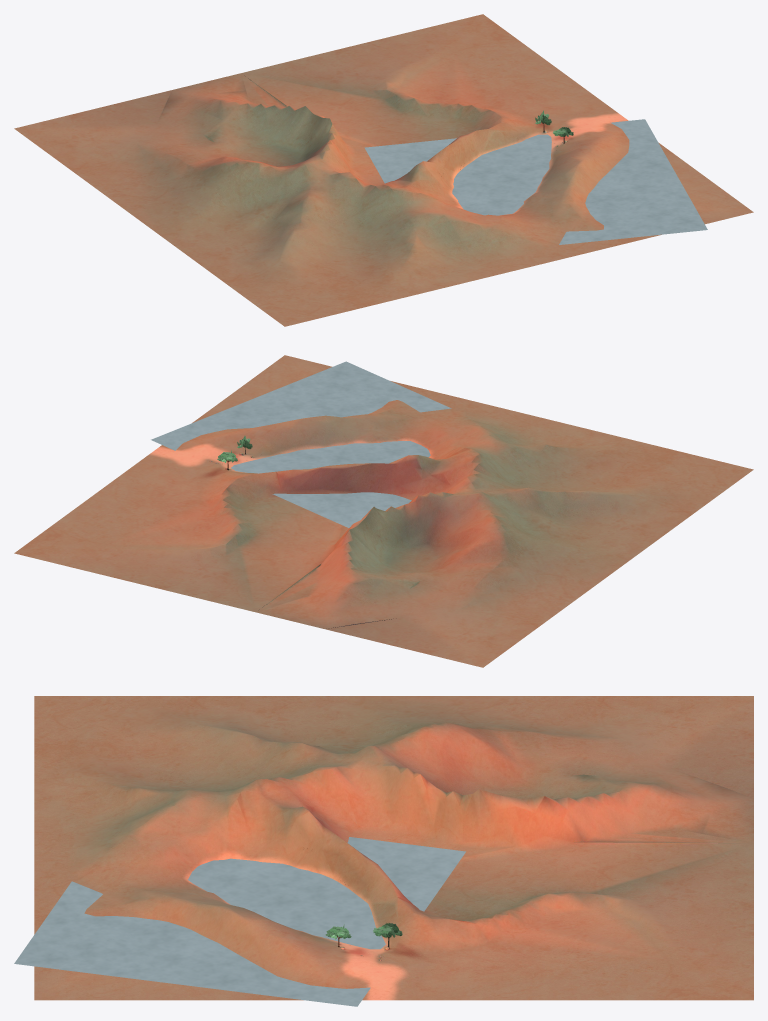
Rendered from chapter2.glb.
3 views of the same model, one above another, from view 1: azimuth 30°, elevation 25°; view 2: azimuth 150°, elevation 25°; view 3: azimuth 270°, elevation 25° (orthographic). The views are drawn at different scales.
Visible parts, largest first — view 1: ground, lake; view 2: ground, lake; view 3: ground, lake, tree.
Part boxes in pixels (bbox=[...]): ground: bbox=[14, 14, 753, 326]; lake: bbox=[364, 119, 707, 244]; ground: bbox=[14, 355, 753, 667]; lake: bbox=[151, 361, 451, 527]; ground: bbox=[34, 696, 753, 1000]; lake: bbox=[14, 837, 465, 1006]; tree: bbox=[325, 923, 402, 948].
Bounding box in the file's own units: 61.7 × 4.32 × 61.79.
Materials: 11 (11 with a texture image).
